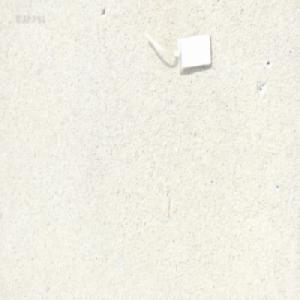LuggageTag: (140, 27, 213, 72)
